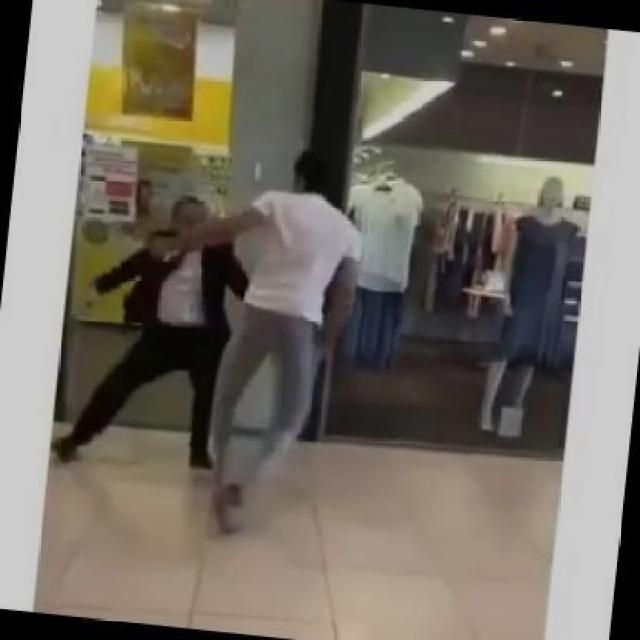fight: (55, 140, 368, 536)
